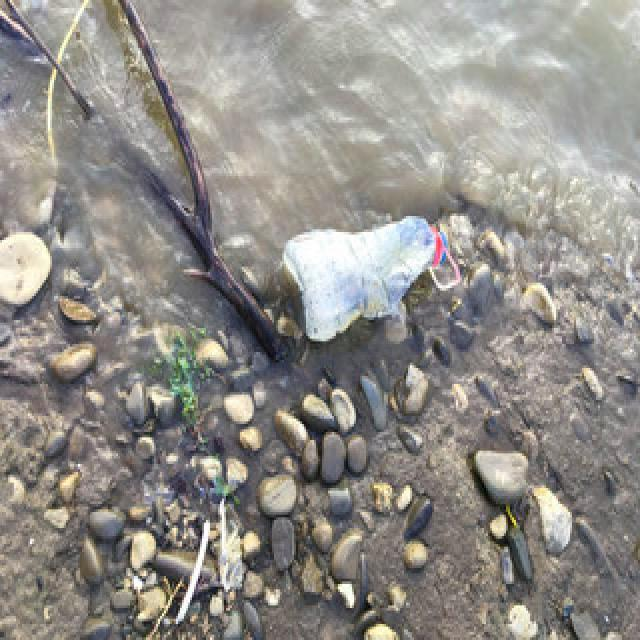Plastic: (277, 216, 448, 342)
